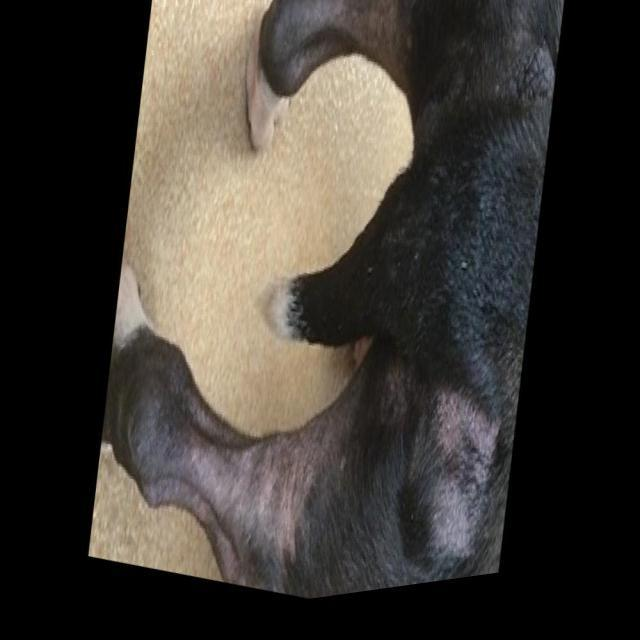allergic dermatitis: (146, 411, 339, 590), (425, 384, 495, 572)
